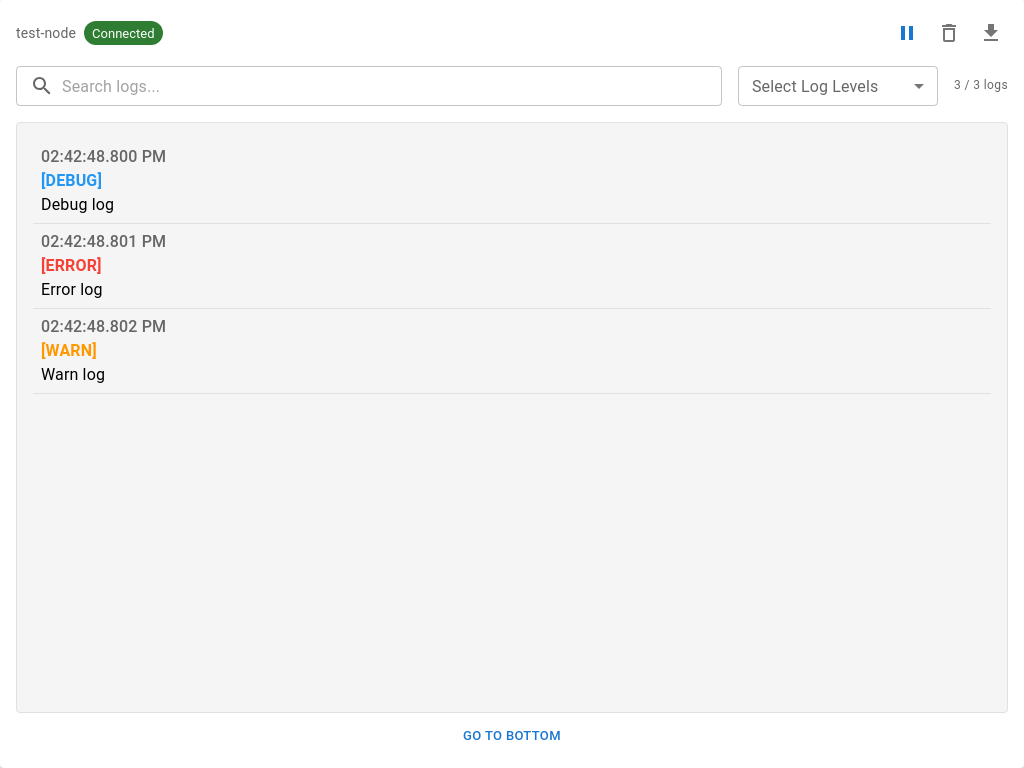
Test: LogsViewer › Filters and search › clicking filter chip delete clears all filters
Expected: the text "Debug log" is shown, [41, 195, 114, 214]
In the field with placeholder "Search logs...": (392, 86) [62, 66, 722, 106], type "debug"
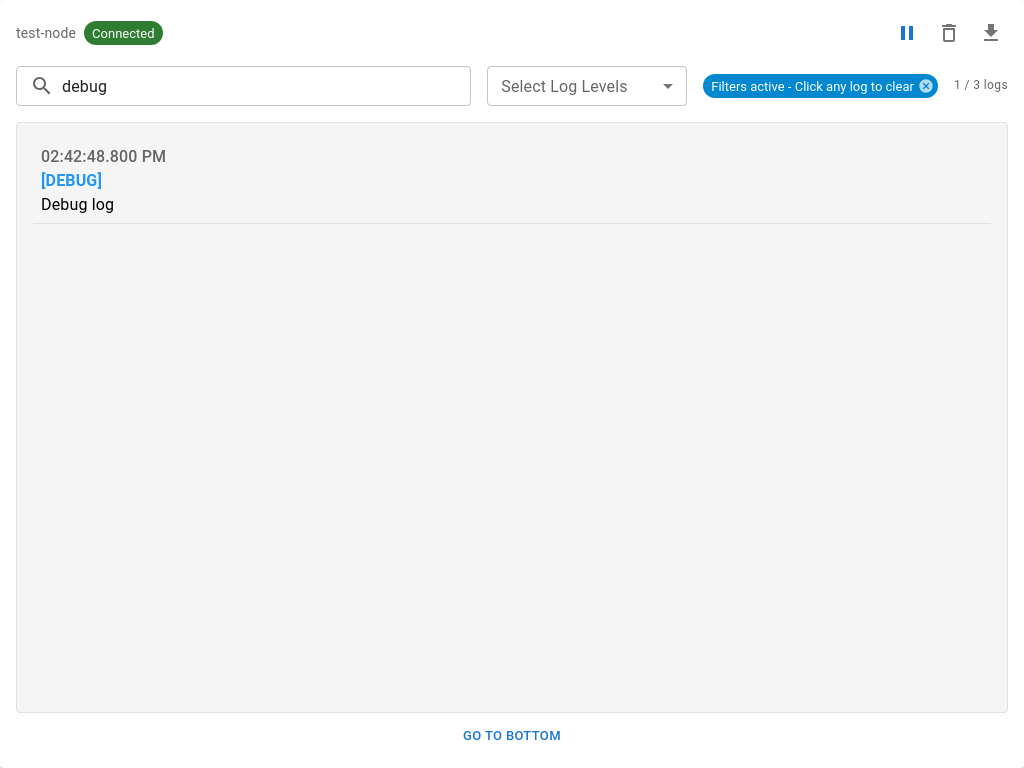
Now the text "Filters active - Click any log to clear" is shown, box [703, 78, 922, 94]
Click the 6th icon: (926, 86) [918, 78, 934, 94]
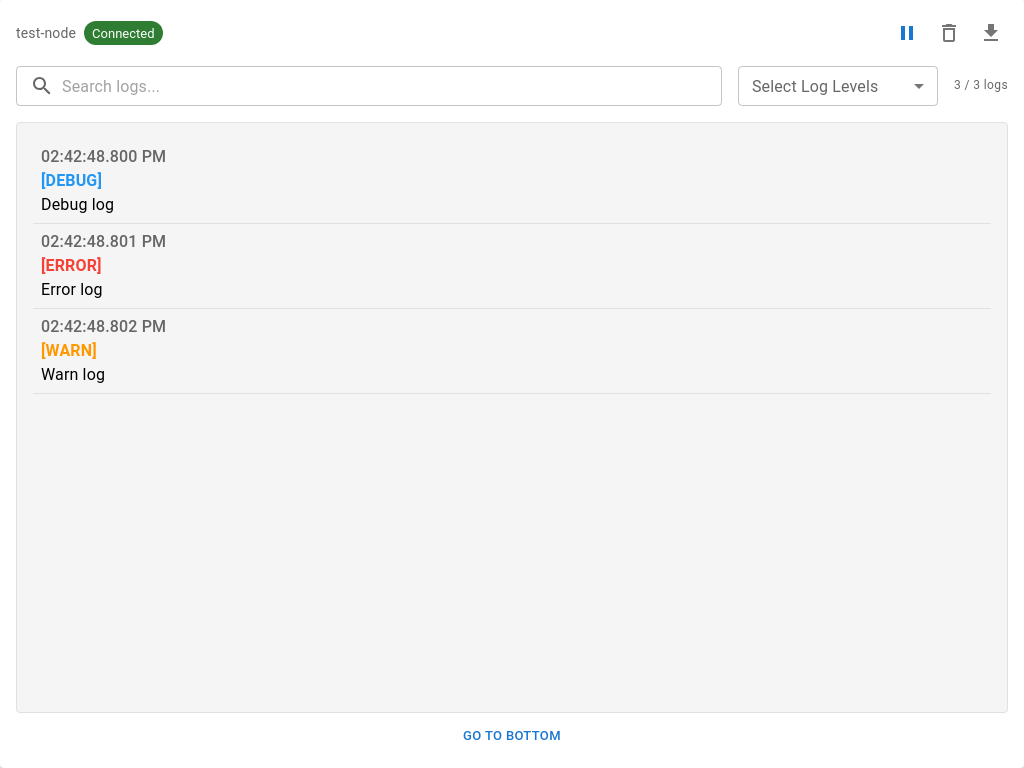
Now the button "Filters active" is gone
Now the field with placeholder "Search logs..." is empty, box [62, 66, 722, 106]
Now the text "Error log" is shown, box [41, 280, 103, 299]
